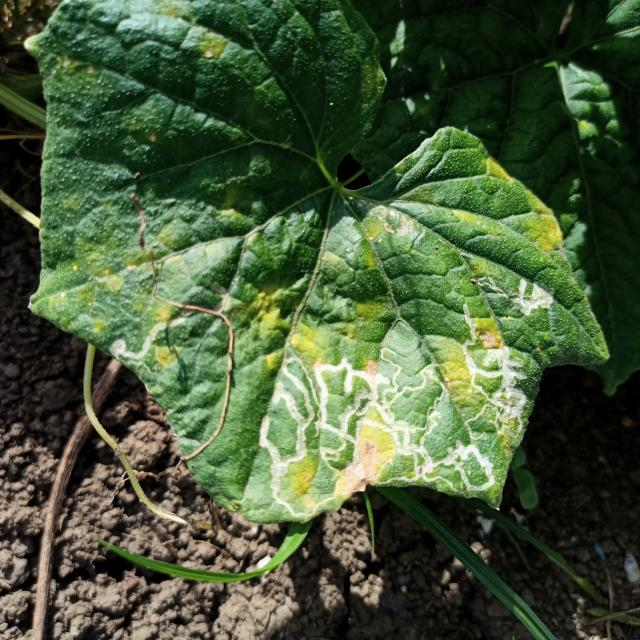disease_cucumber: (132, 217, 558, 518), (436, 156, 570, 262), (144, 0, 228, 66)
